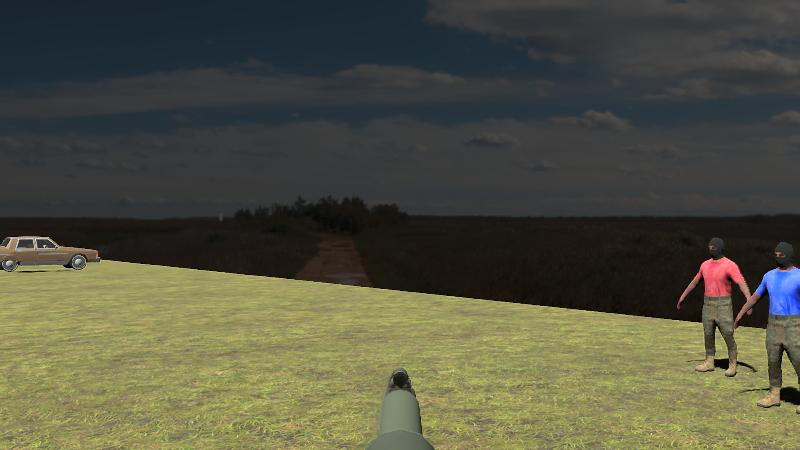Human: (734, 240, 800, 411), (678, 235, 751, 376)
car: (0, 235, 100, 273)
